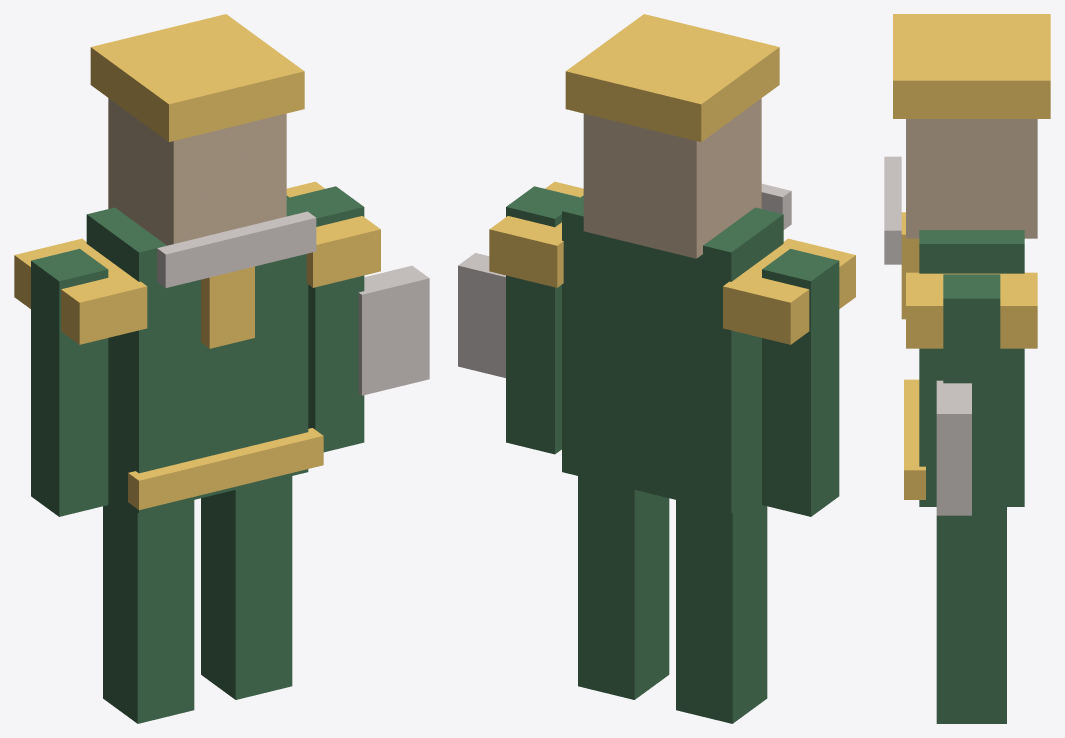
Rendered from 01_astra_wayfare_broker_at.glb.
3 renders of one model, left to right at view 1: azimuth 30°, elevation 25°; view 2: azimuth 150°, elevation 25°; view 3: azimuth 270°, elevation 25°, orthographic.
Parts seen in each view (by area): view 1: Astra Wayfare, Broker at; view 2: Astra Wayfare, Broker at; view 3: Astra Wayfare, Broker at.
Boxes of the visible parts, bbox=[...] form: Astra Wayfare, Broker at: bbox=[14, 14, 429, 723]; Astra Wayfare, Broker at: bbox=[458, 14, 855, 723]; Astra Wayfare, Broker at: bbox=[884, 14, 1050, 723].
Bounding box in the file's own units: 1.03 × 1.69 × 0.4008.
